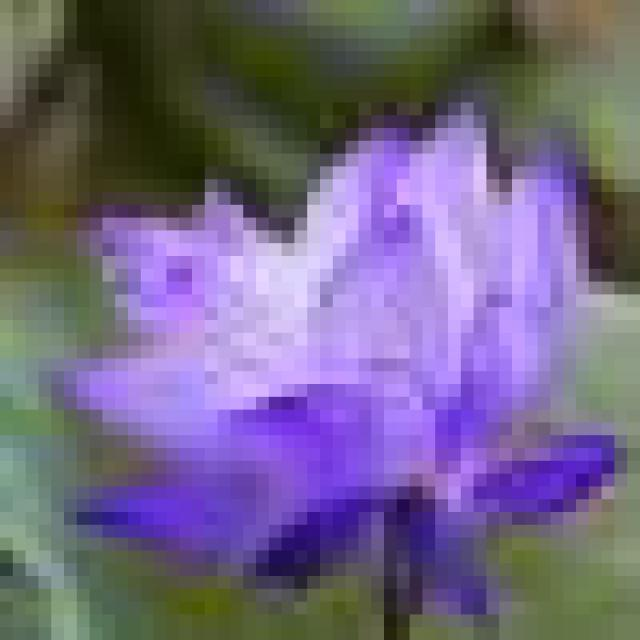lotus: (41, 89, 627, 640)
